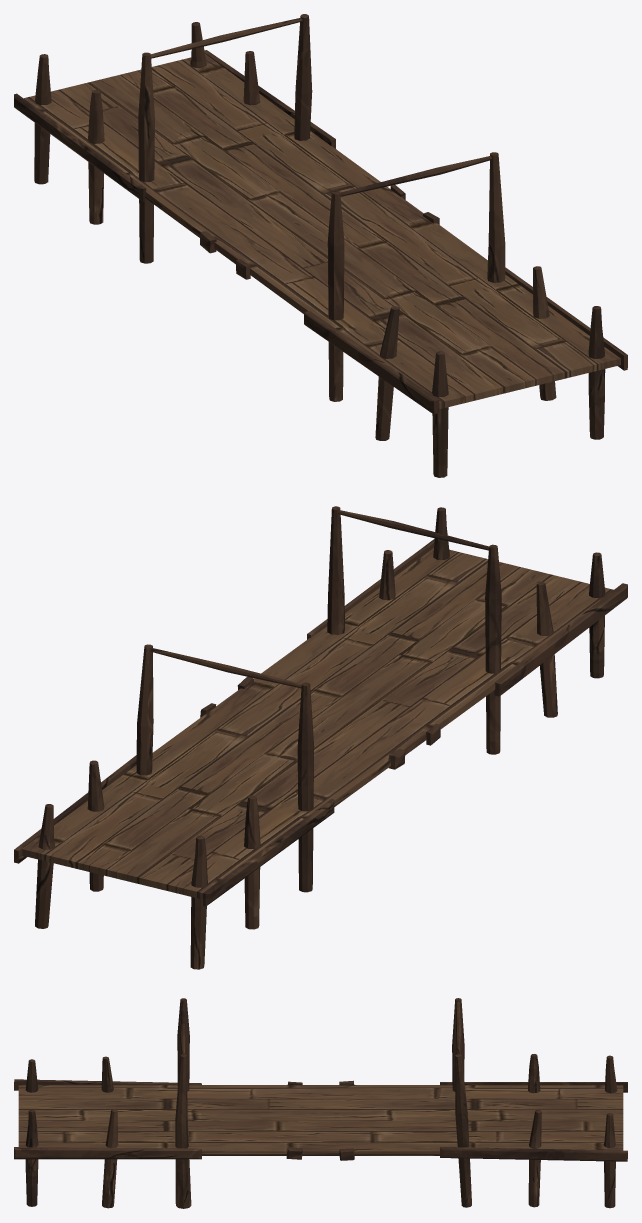
Rendered from Bridge.fbx.
The picture shows the model from 3 angles, top to bottom: view 1: azimuth 30°, elevation 25°; view 2: azimuth 150°, elevation 25°; view 3: azimuth 270°, elevation 25°; orthographic projection. The views are drawn at different scales.
Parts seen in each view (by area): view 1: Bridge; view 2: Bridge; view 3: Bridge.
Part boxes in pixels (bbox=[...]): Bridge: bbox=[14, 14, 627, 477]; Bridge: bbox=[14, 506, 627, 969]; Bridge: bbox=[14, 998, 627, 1208].
Bounding box in the file's own units: 3.19 × 3.18 × 11.77.
